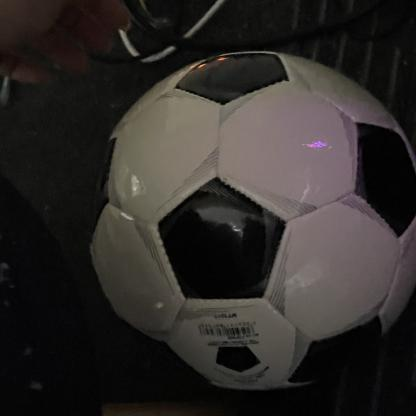ball: (84, 51, 416, 388)
